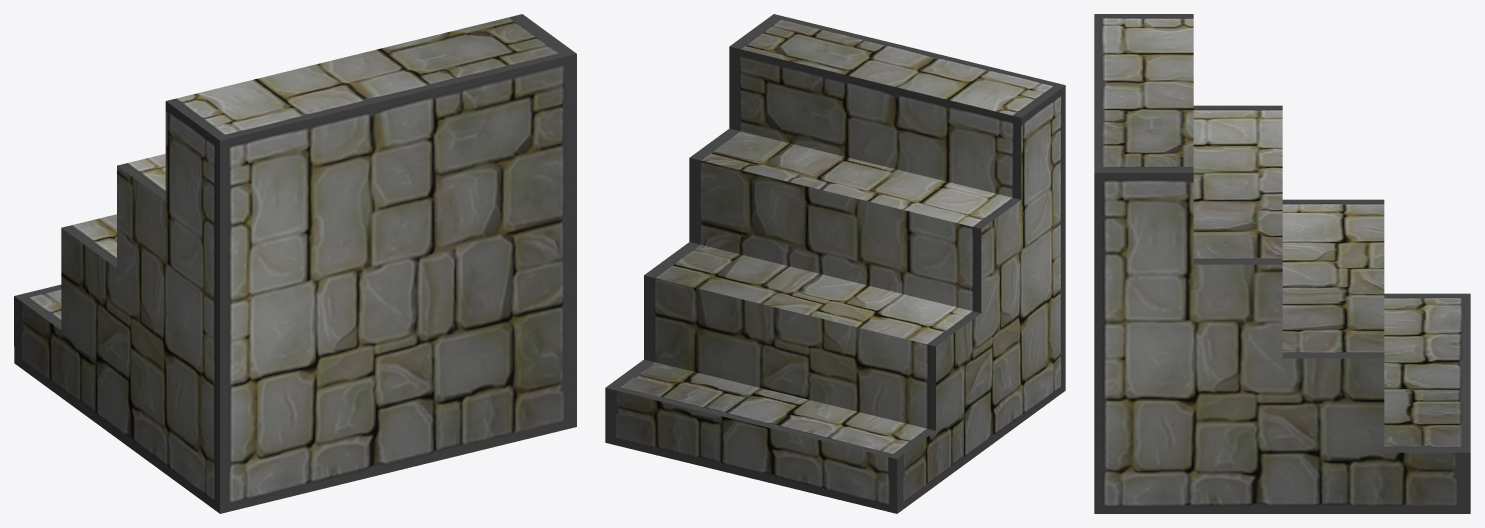
File: POL0510008.fbx
The picture shows the model from 3 angles, left to right: view 1: azimuth 30°, elevation 25°; view 2: azimuth 150°, elevation 25°; view 3: azimuth 270°, elevation 25°; orthographic projection. The views are drawn at different scales.
Visible parts, largest first — view 1: smPOL0510008; view 2: smPOL0510008; view 3: smPOL0510008.
Part boxes in pixels (x1=…): smPOL0510008: x1=14, y1=14, x2=576, y2=513; smPOL0510008: x1=605, y1=14, x2=1065, y2=513; smPOL0510008: x1=1094, y1=14, x2=1470, y2=513.
Bounding box in the file's own units: 161 × 161 × 161.
Materials: 1 (1 with a texture image).
